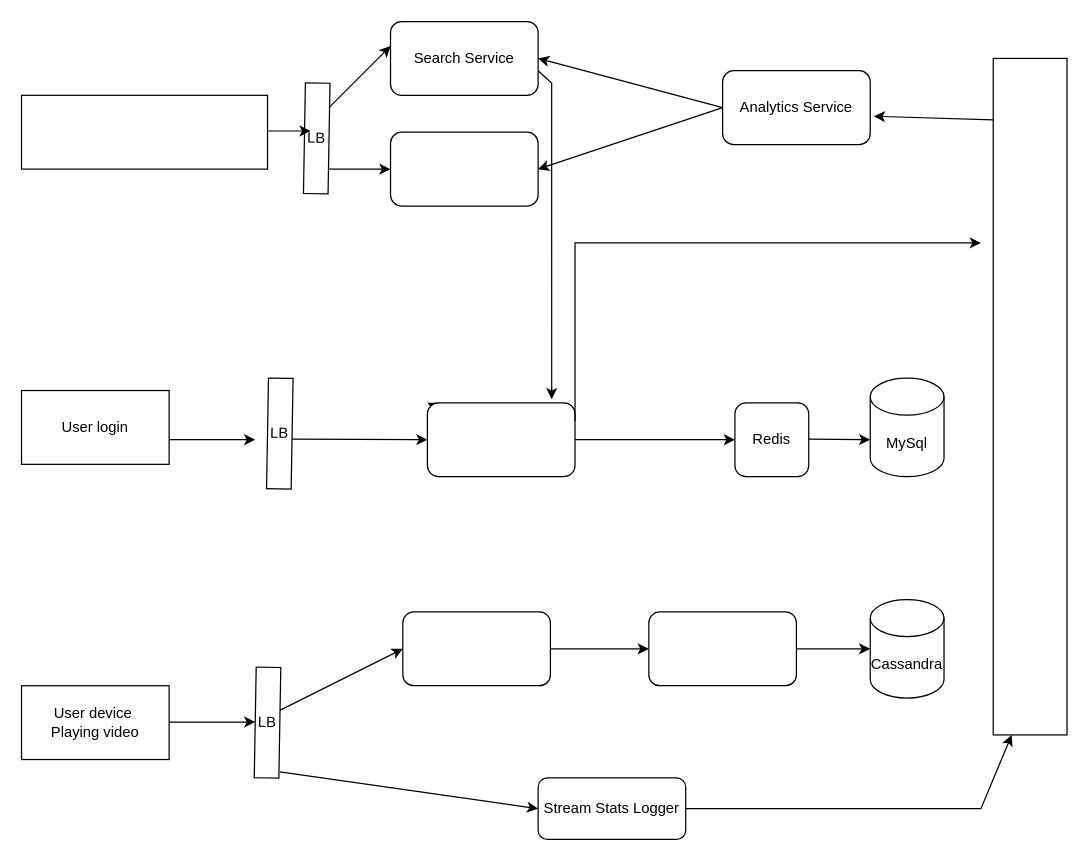
Some shapes in this 1089 by 861 pixel diagram are drawn without their labels. The shapes that lost their labels are listed below. From the top down, each one's box as (x1, y1, x2, y2) in pixels, then its label:
(20, 94, 268, 169): home screen Search screen
(389, 131, 538, 206): Home page Service
(992, 57, 1067, 735): Kafka
(426, 402, 575, 477): User Service
(402, 611, 550, 686): Host Identity Service
(648, 611, 796, 686): Asset Service
